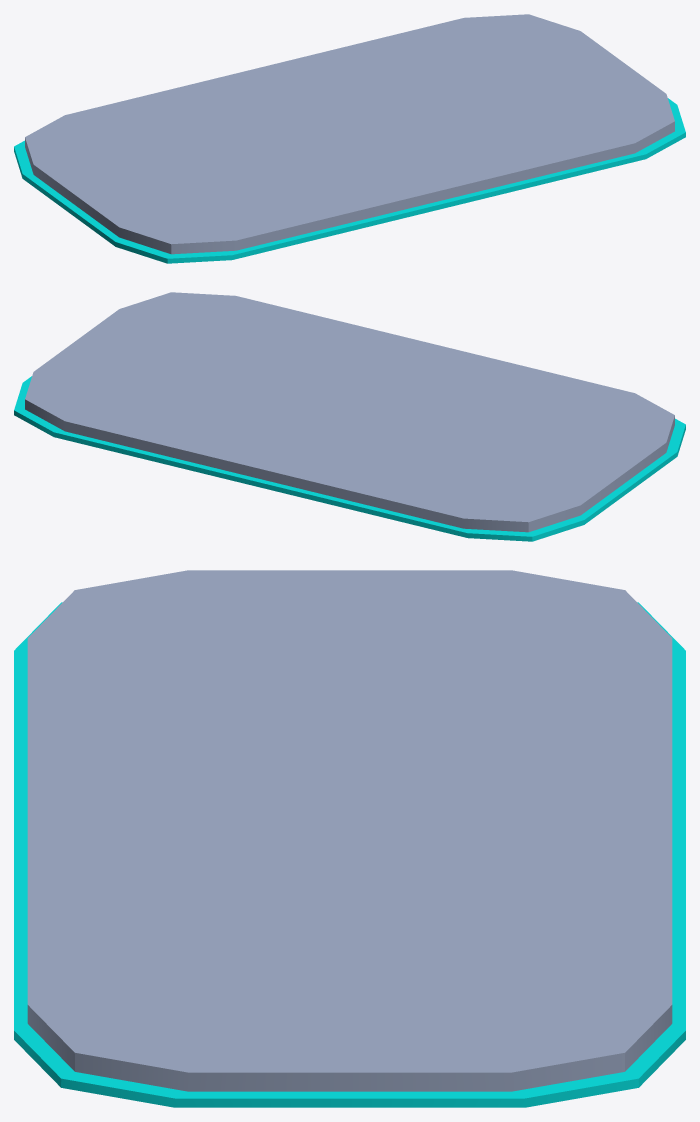
Rendered from Bathrug.fbx.
3 renders of one model, top to bottom at view 1: azimuth 30°, elevation 25°; view 2: azimuth 150°, elevation 25°; view 3: azimuth 270°, elevation 25°, orthographic. The views are drawn at different scales.
Visible parts, largest first — view 1: BathRug; view 2: BathRug; view 3: BathRug.
Boxes of the visible parts, x1,y1,x2,y2 form: BathRug: (14, 14, 685, 263); BathRug: (14, 292, 685, 541); BathRug: (14, 570, 685, 1107).
Bounding box in the file's own units: 84.67 × 2.17 × 46.61.
